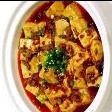mapodoufu: (16, 0, 104, 112)
